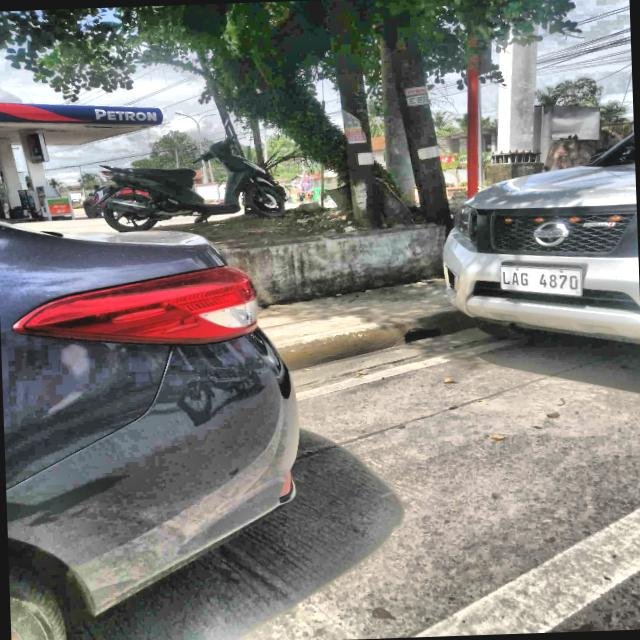license-plate: (497, 265, 583, 296)
